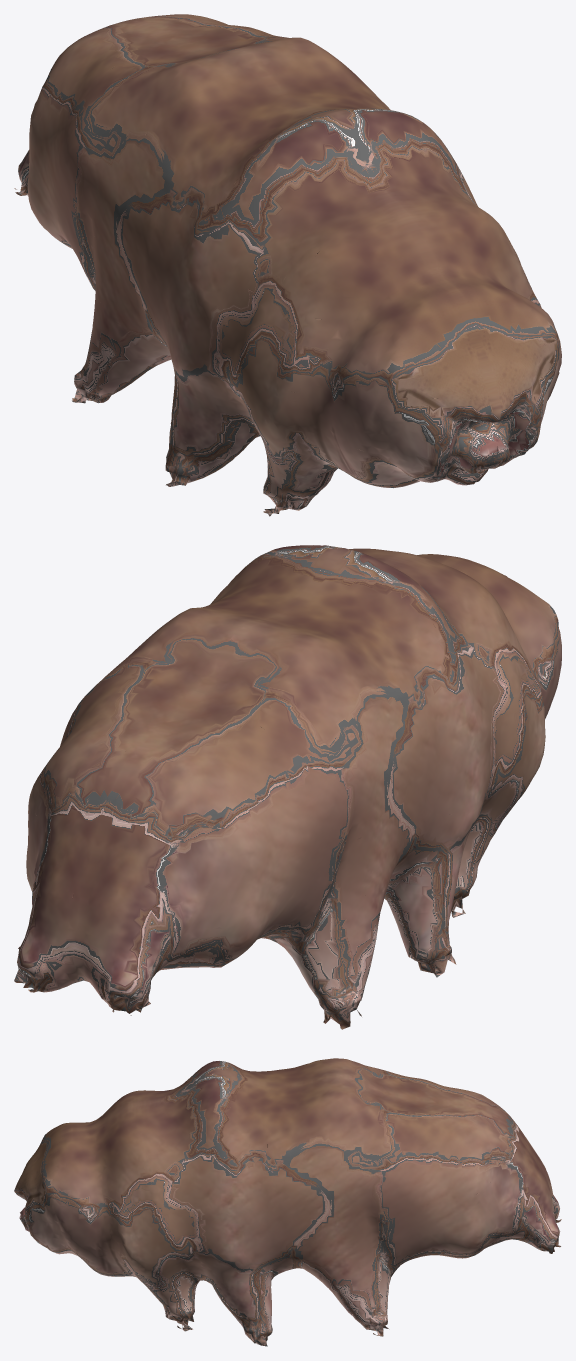
The model's file is waterbear.glb.
The picture shows the model from 3 angles, top to bottom: view 1: azimuth 30°, elevation 25°; view 2: azimuth 150°, elevation 25°; view 3: azimuth 270°, elevation 25°; orthographic projection. The views are drawn at different scales.
Visible parts, largest first — view 1: decimated; view 2: decimated; view 3: decimated.
Boxes of the visible parts, x1,y1,x2,y2 form: decimated: (14,14,561,516); decimated: (14,545,561,1029); decimated: (14,1058,561,1346).
Bounding box in the file's own units: 2.25 × 2.66 × 5.66.
Materials: 1 (1 with a texture image).
